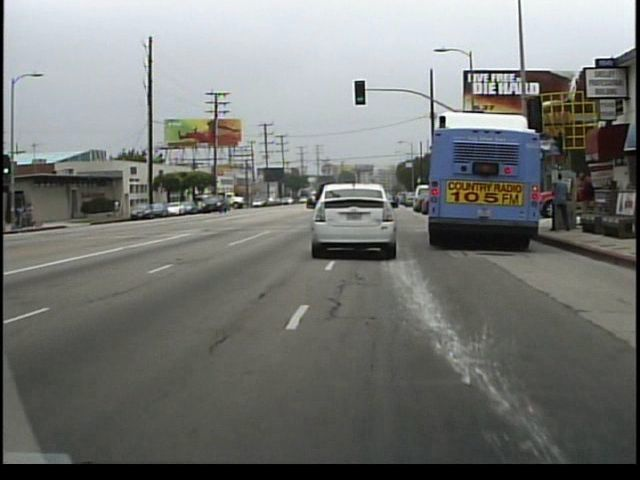person: (545, 170, 571, 236), (111, 195, 123, 219)
